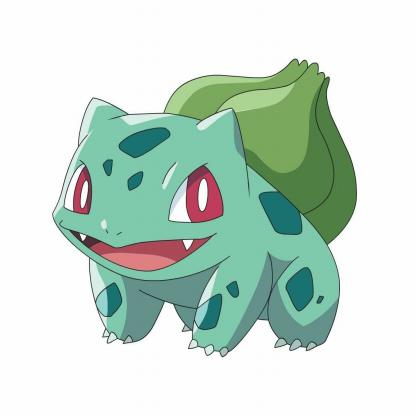Bulbasaur: (45, 32, 372, 371)
